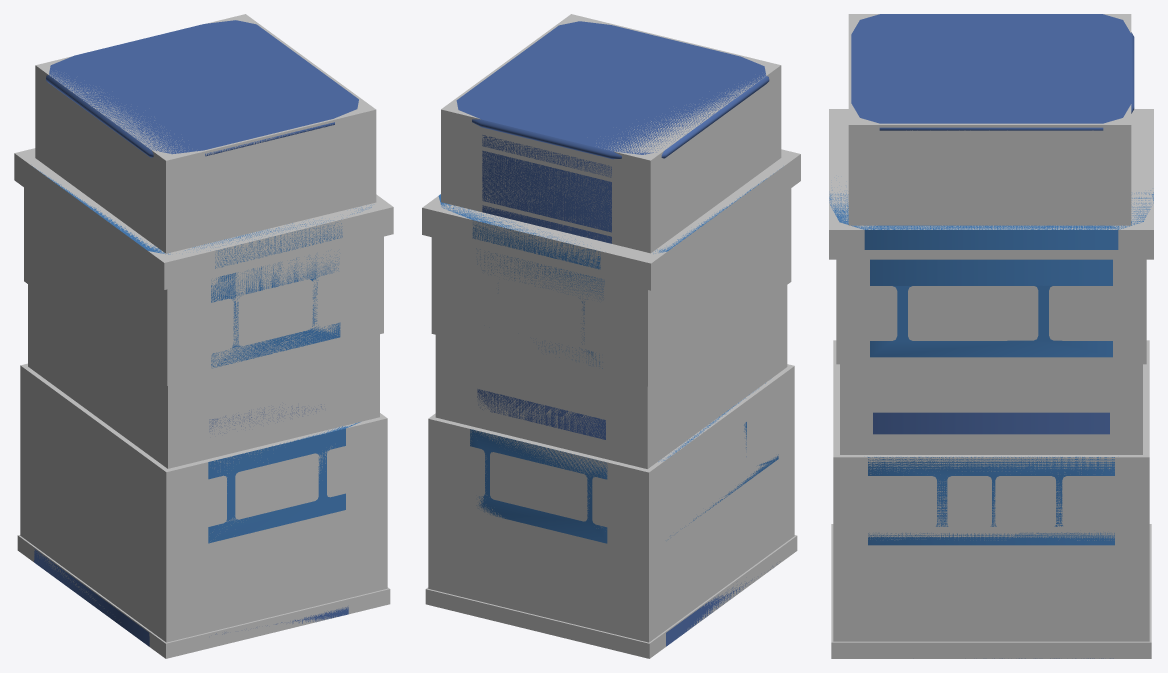
File: SM_Building_05.fbx
The picture shows the model from 3 angles, left to right: view 1: azimuth 30°, elevation 25°; view 2: azimuth 150°, elevation 25°; view 3: azimuth 270°, elevation 25°; orthographic projection. The views are drawn at different scales.
Visible parts, largest first — view 1: SM_Building_05_ConvexHulls, SM_Building_05; view 2: SM_Building_05_ConvexHulls, SM_Building_05; view 3: SM_Building_05_ConvexHulls, SM_Building_05.
Boxes of the visible parts, x1,y1,x2,y2 form: SM_Building_05_ConvexHulls: [14, 14, 393, 658]; SM_Building_05: [32, 20, 371, 646]; SM_Building_05_ConvexHulls: [422, 14, 800, 658]; SM_Building_05: [438, 21, 779, 646]; SM_Building_05_ConvexHulls: [829, 14, 1153, 658]; SM_Building_05: [829, 14, 1153, 658].
Size of the model in its own units: 540 by 612 by 1103.
2 materials, 1 textured.
